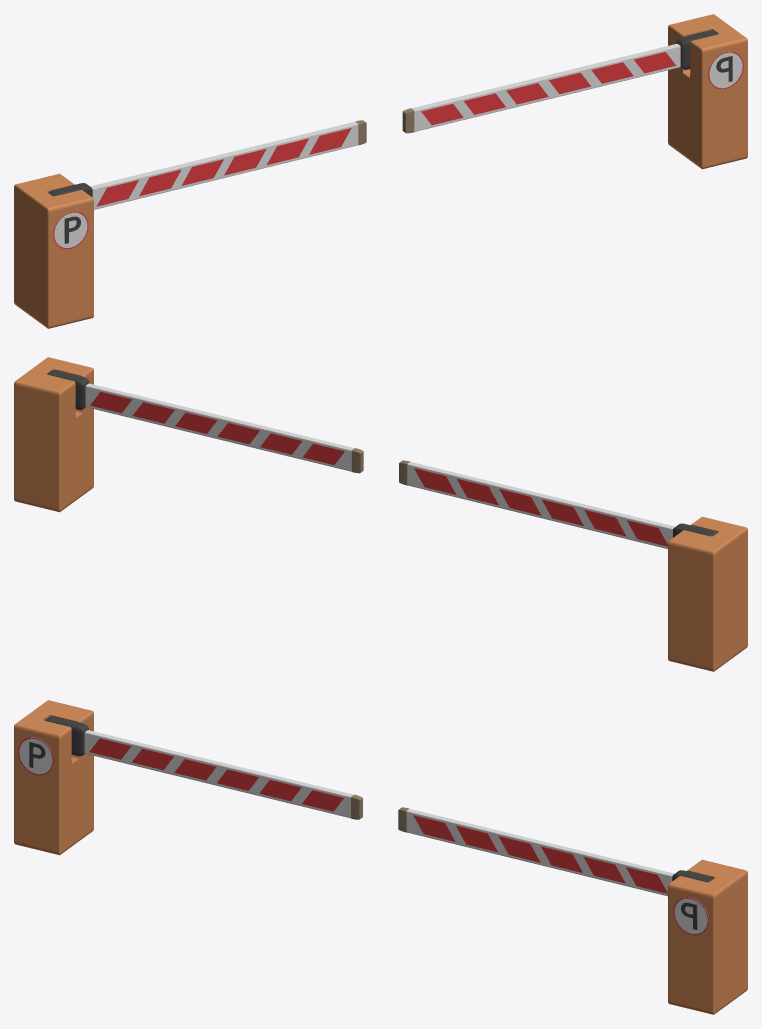
The model's file is ParkingGates.fbx.
3 renders of one model, top to bottom at view 1: azimuth 30°, elevation 25°; view 2: azimuth 150°, elevation 25°; view 3: azimuth 330°, elevation 25°, orthographic.
Parts seen in each view (by area): view 1: Block, Block.001, Plank thing.001, Plank thing; view 2: Block, Block.001, Plank thing.001, Plank thing; view 3: Block.001, Block, Plank thing, Plank thing.001.
Part boxes in pixels (left/top/right/bottom): Block: left=14, top=173, right=93, bottom=328; Block.001: left=668, top=14, right=747, bottom=169; Plank thing.001: left=402, top=30, right=718, bottom=133; Plank thing: left=48, top=120, right=366, bottom=209; Block: left=668, top=516, right=747, bottom=671; Block.001: left=14, top=357, right=93, bottom=512; Plank thing.001: left=47, top=370, right=363, bottom=473; Plank thing: left=399, top=460, right=716, bottom=548; Block.001: left=668, top=859, right=747, bottom=1014; Block: left=14, top=700, right=93, bottom=855; Plank thing: left=45, top=716, right=362, bottom=819; Plank thing.001: left=398, top=807, right=714, bottom=896.
Size of the model in its own units: 3.95 by 0.6509 by 0.3453.
